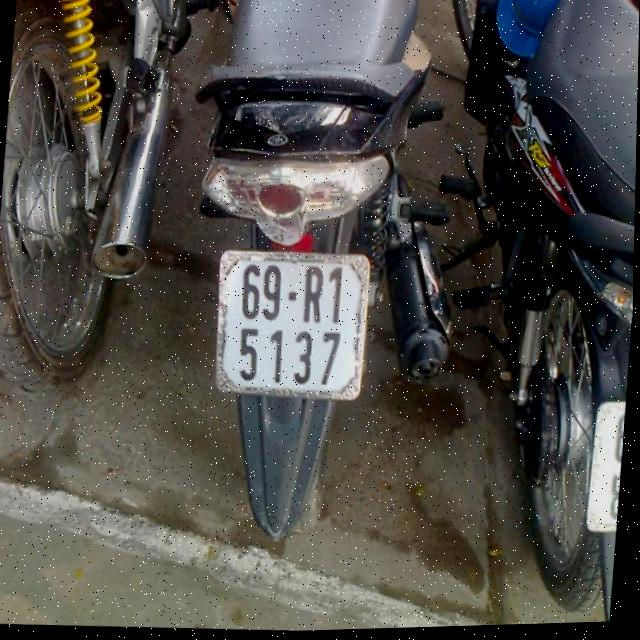motorcycle: (178, 0, 480, 564), (395, 0, 640, 628), (0, 0, 204, 409)
plate: (208, 241, 373, 407)
